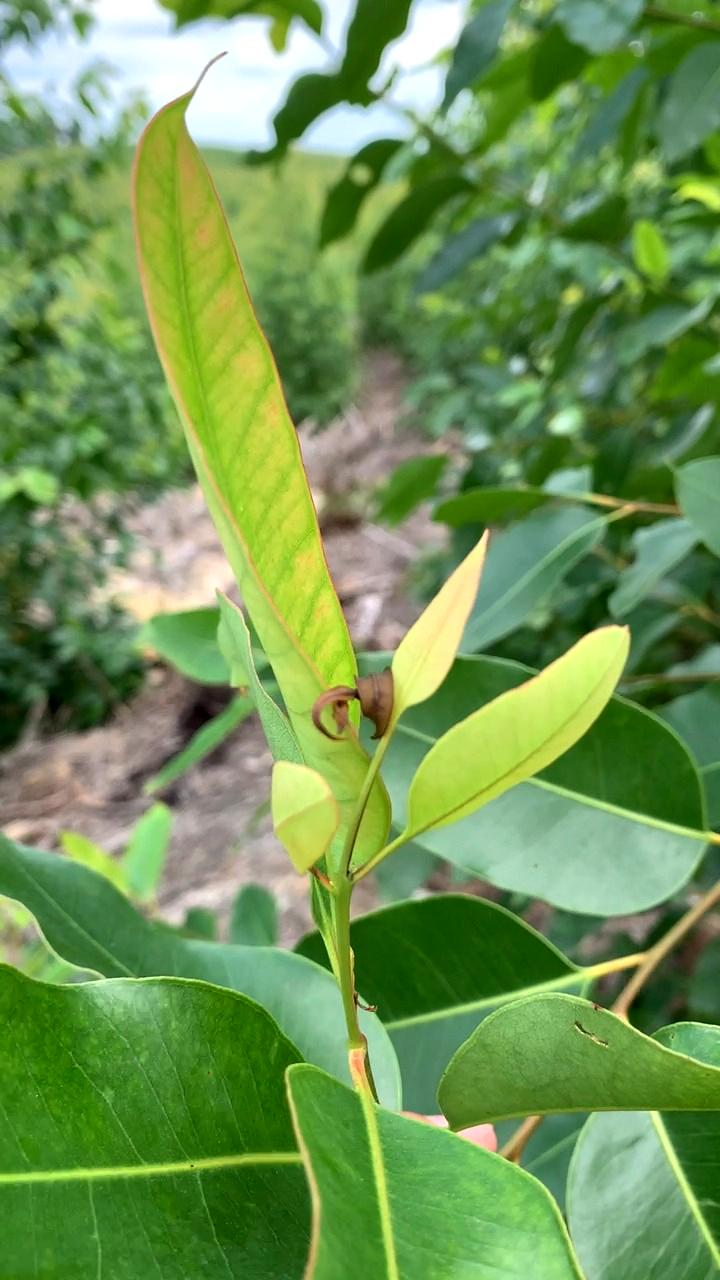Helopeltis-Withered Sprout: (303, 667, 404, 747)
